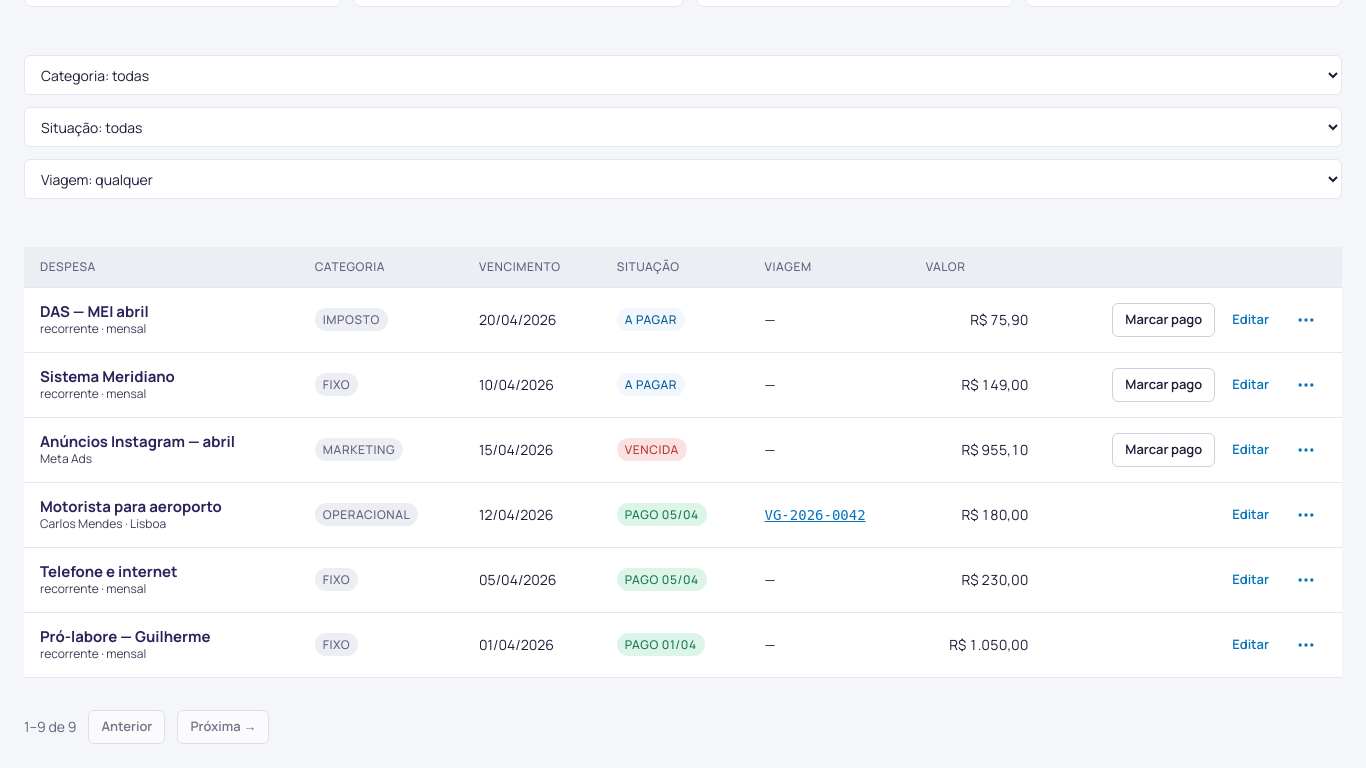
Scenario: Marcar pago abre o modal de pagamento com o título da despesa
(page scrolled)
expect the text "Anúncios Instagram — abril" is shown: met, box top-left (40, 430), bottom-right (235, 452)
Click the button "Marcar pago" in the row of "Anúncios Instagram — abril": (1164, 450) top-left (1112, 433), bottom-right (1215, 467)
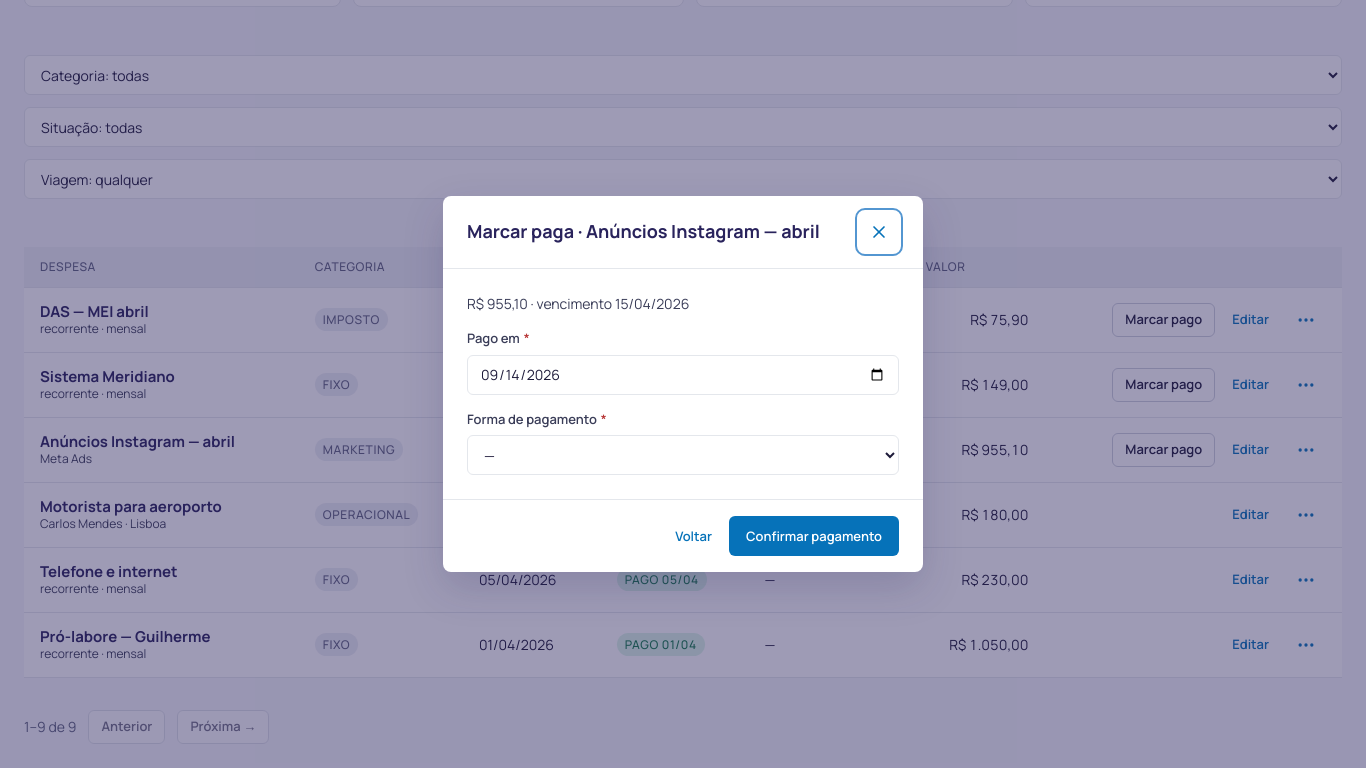
expect the heading "Marcar paga · Anúncios Instagram — abril" is shown: met, box top-left (467, 220), bottom-right (820, 243)
